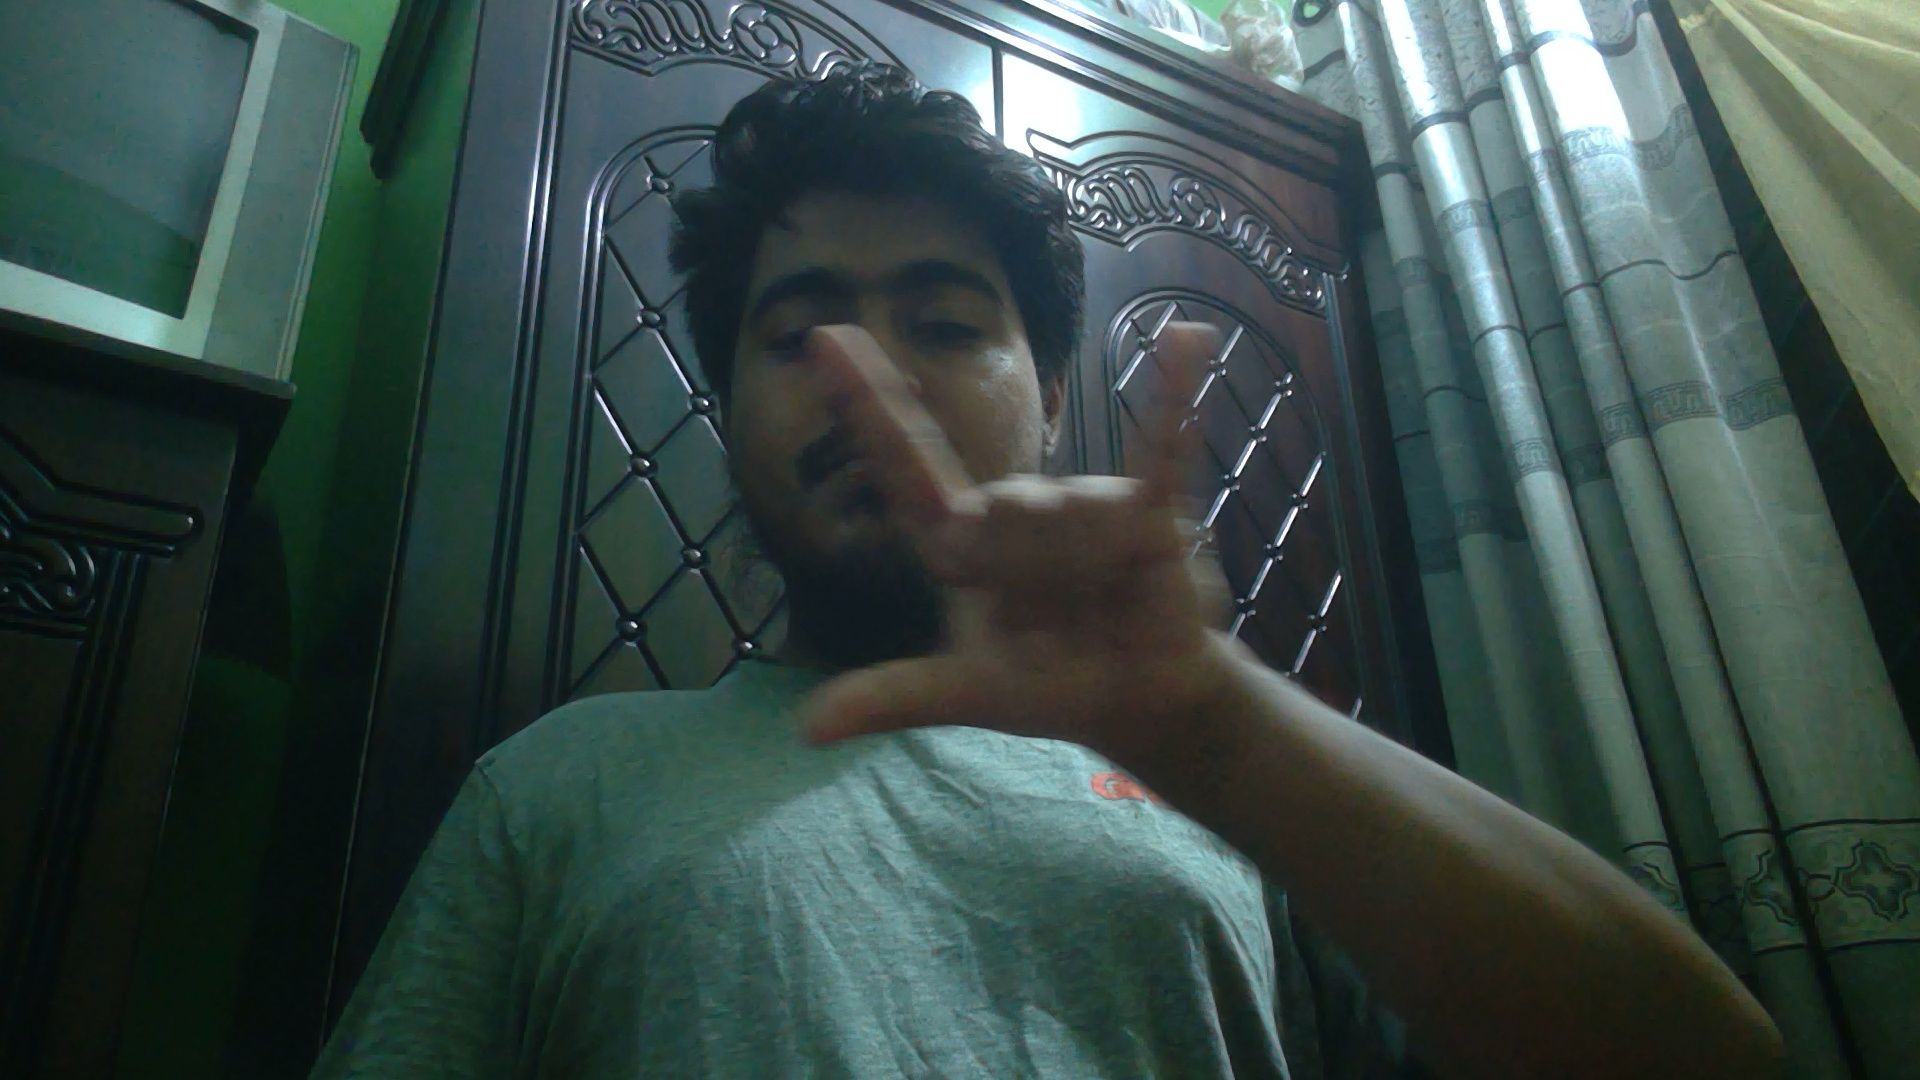Iloveyou: (777, 310, 1247, 769)
